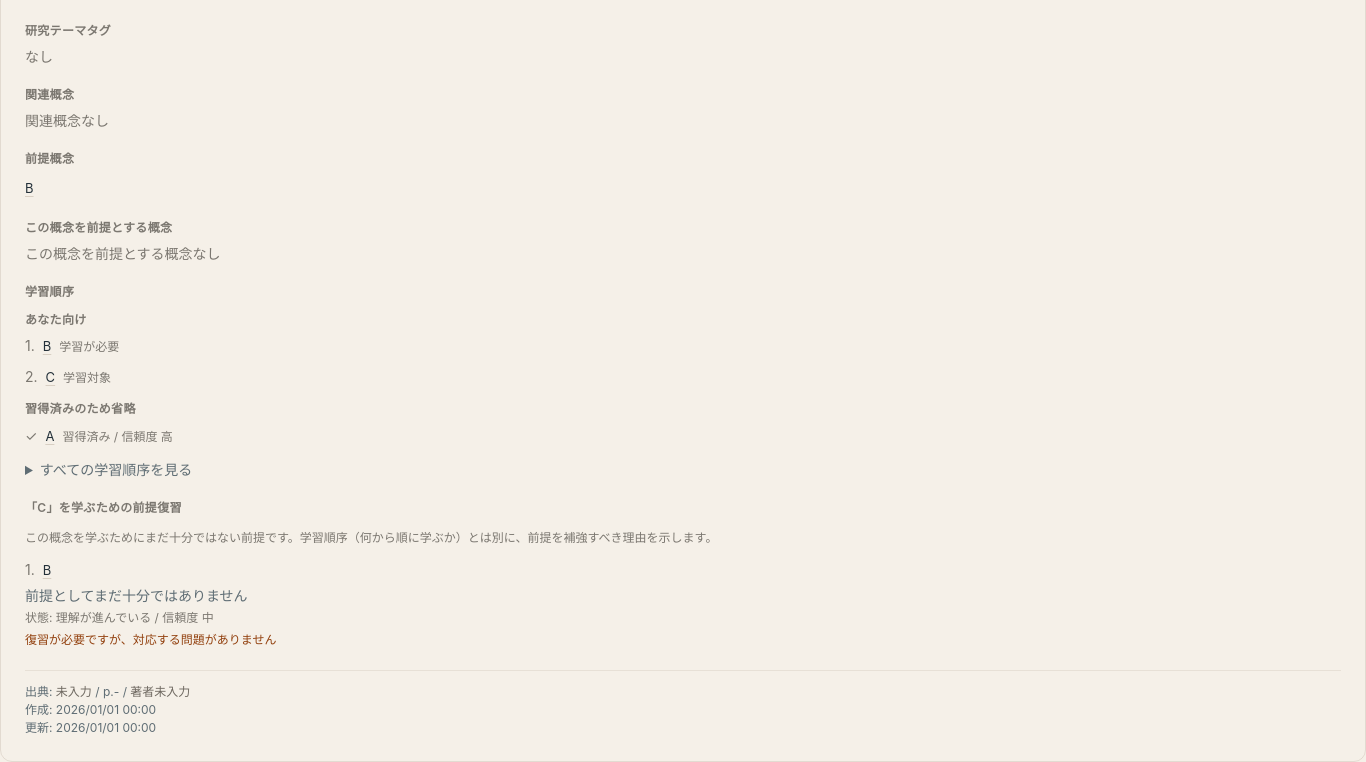
Test case: ConceptDetail personalized learning sequence (#121) › すべての学習順序を開くと full sequence の A, B, C が残っている
(page scrolled)
Click the heading "すべての学習順序を見る".
click(116, 469)  # box 40,461 -> 192,478
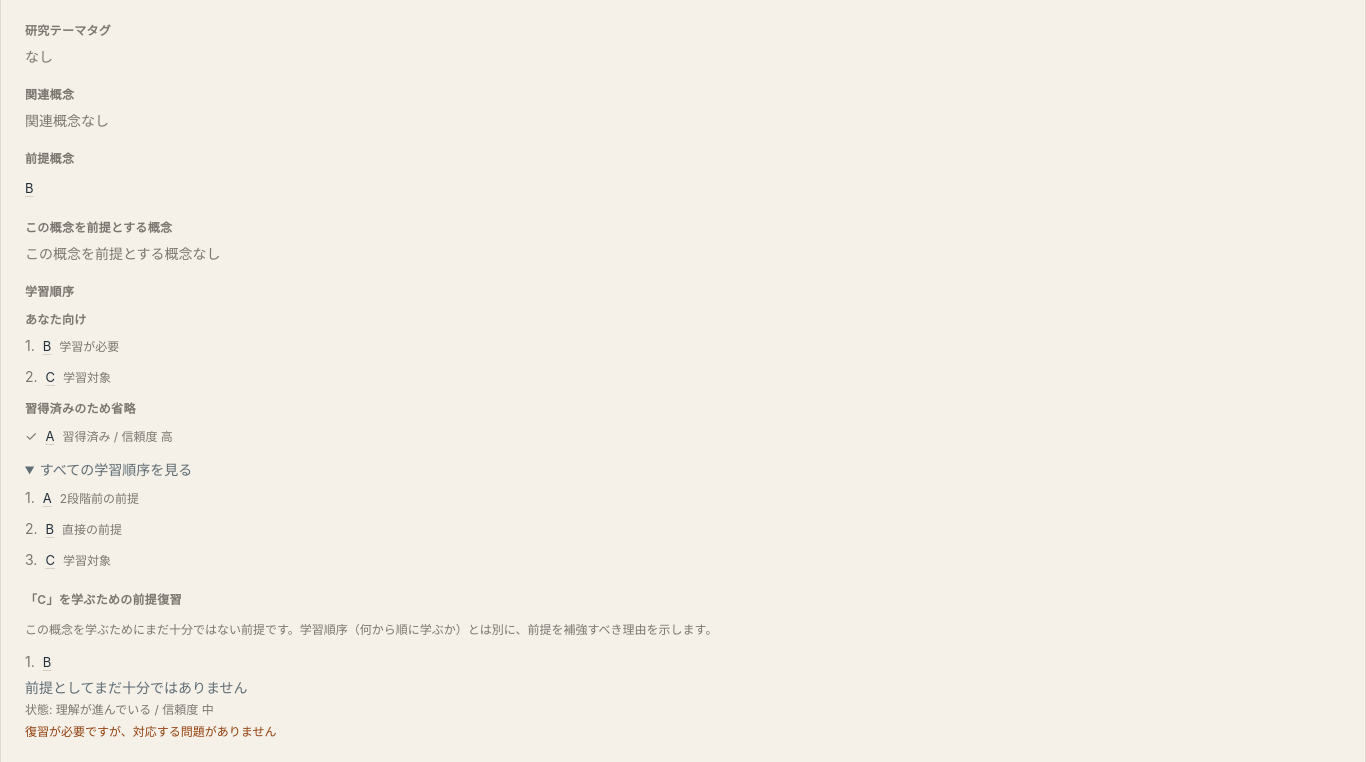
Now the element with test id "full-learning-sequence" shows "1.", box 25,461 -> 192,572
Now the element with test id "full-learning-sequence" shows "A", box 43,488 -> 52,510
Now the element with test id "full-learning-sequence" shows "2.", box 25,461 -> 192,572
